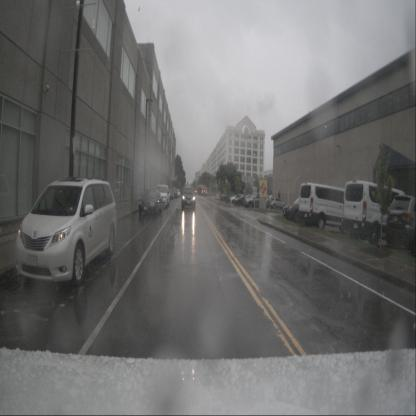human-pedestrian-adult: (278, 191, 281, 202)
vehicle-bus-rigid: (198, 184, 207, 196)
vehicle-car: (14, 178, 117, 286), (342, 180, 411, 245), (298, 182, 356, 234), (386, 196, 416, 252), (283, 194, 330, 224), (138, 188, 163, 214), (244, 193, 270, 208), (154, 185, 170, 208), (182, 186, 196, 208), (229, 194, 246, 204), (235, 195, 252, 205), (270, 197, 284, 209), (221, 192, 235, 201), (166, 189, 174, 200), (170, 188, 178, 197), (174, 189, 180, 197)
